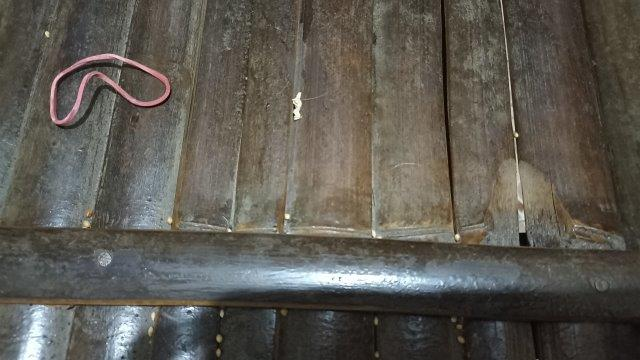karet: (49, 53, 171, 127)
